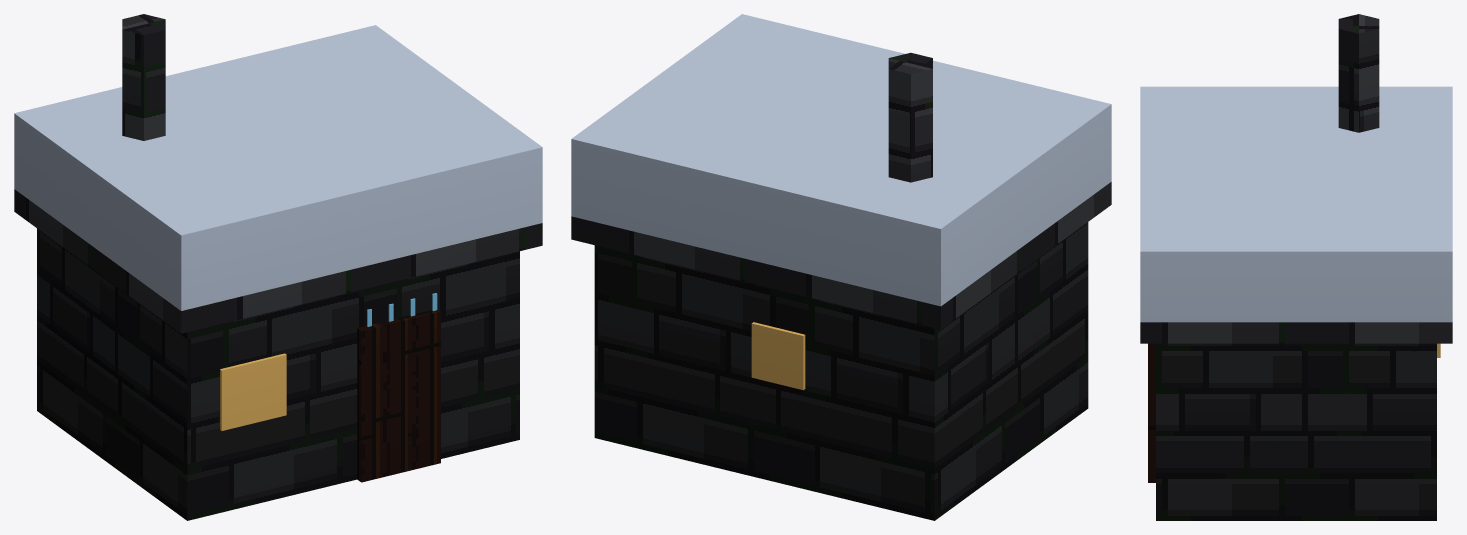
The model's file is ashmantle_house.glb.
3 renders of one model, left to right at view 1: azimuth 30°, elevation 25°; view 2: azimuth 150°, elevation 25°; view 3: azimuth 270°, elevation 25°, orthographic. The views are drawn at different scales.
Visible parts, largest first — view 1: ashmantle_house; view 2: ashmantle_house; view 3: ashmantle_house.
Boxes of the visible parts, x1=… form: ashmantle_house: x1=14, y1=14, x2=542, y2=520; ashmantle_house: x1=571, y1=14, x2=1111, y2=520; ashmantle_house: x1=1140, y1=14, x2=1452, y2=520.
Bounding box in the file's own units: 5 × 5.3 × 4.
5 materials, 2 textured.
